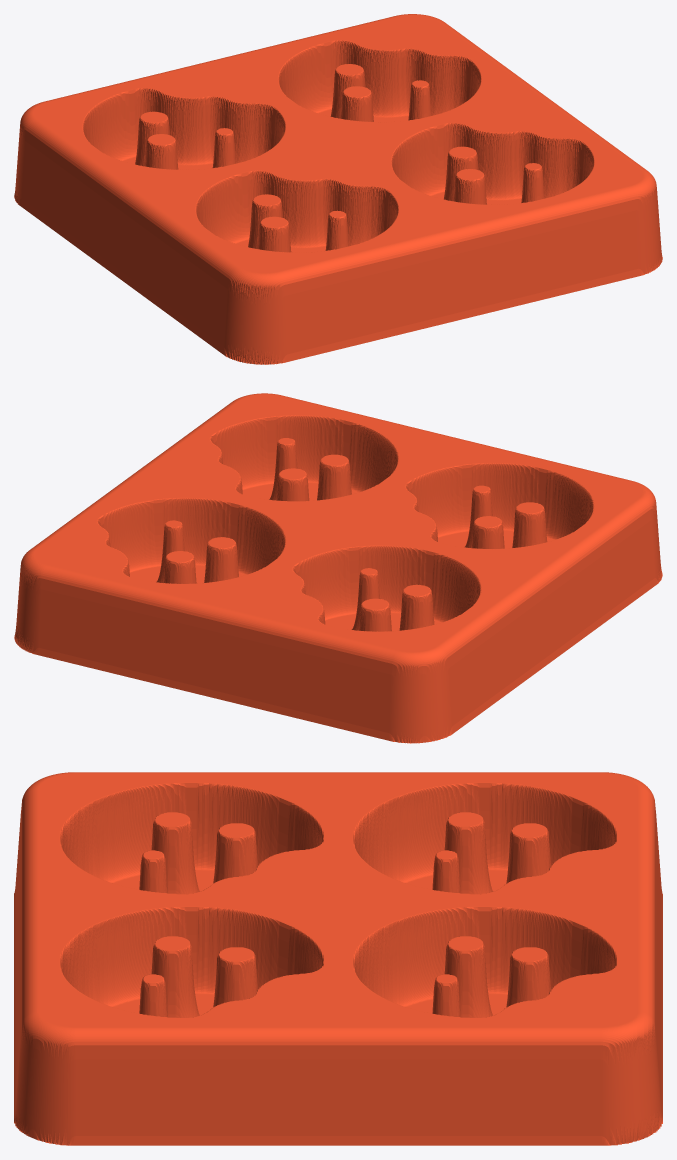
The model's file is mold.glb.
The picture shows the model from 3 angles, top to bottom: view 1: azimuth 30°, elevation 25°; view 2: azimuth 150°, elevation 25°; view 3: azimuth 270°, elevation 25°; orthographic projection. The views are drawn at different scales.
Parts seen in each view (by area): view 1: geometry_0; view 2: geometry_0; view 3: geometry_0.
Boxes of the visible parts, <box> form: geometry_0: <box>14,14,662,364</box>; geometry_0: <box>14,393,662,743</box>; geometry_0: <box>14,772,662,1145</box>.
Size of the model in its own units: 0.0952 by 0.0175 by 0.0952.
